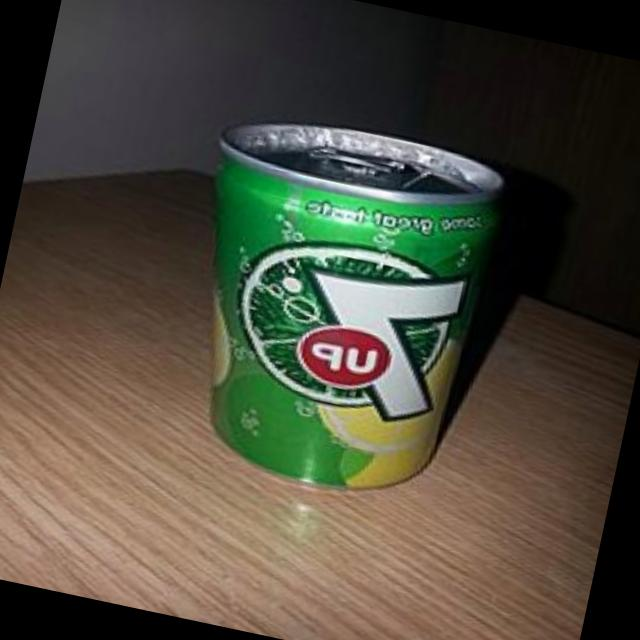metal: (214, 122, 504, 485)
